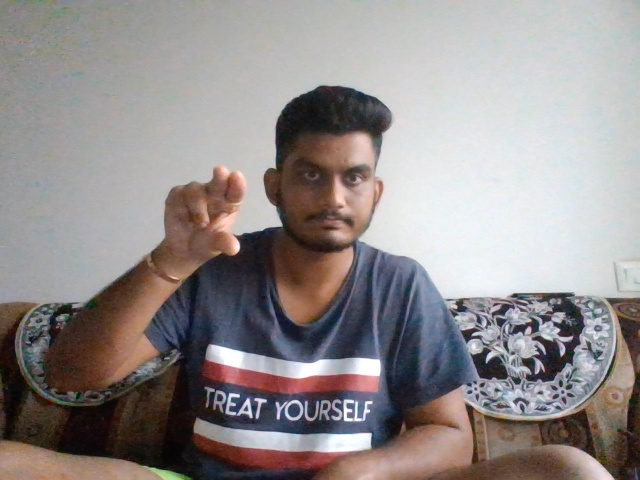No: (154, 164, 247, 258)
